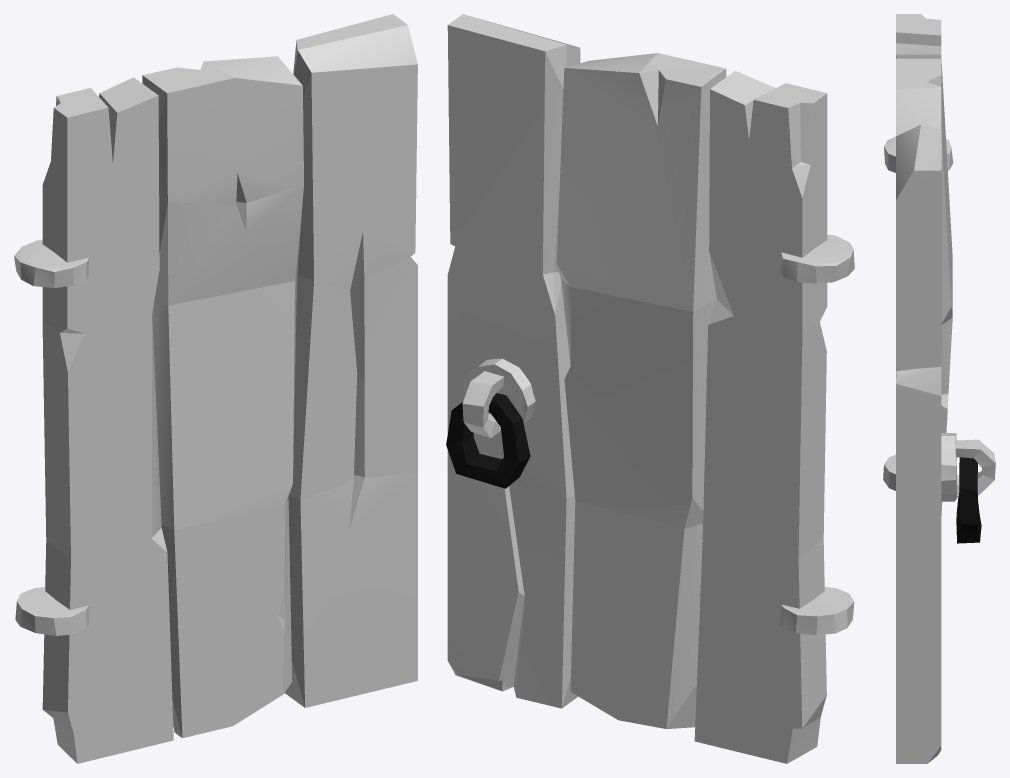
The model's file is NGF_Env_Door_04.fbx.
3 views of the same model, side by side, from view 1: azimuth 30°, elevation 25°; view 2: azimuth 150°, elevation 25°; view 3: azimuth 270°, elevation 25° (orthographic). The views are drawn at different scales.
Visible parts, largest first — view 1: NGF_Env_Door_04, NGF_Env_Hinges_10; view 2: NGF_Env_Door_04, NGF_Env_Hinges_10, NGF_Env_Handle_04, NGF_Env_Handle_attachment_04; view 3: NGF_Env_Door_04, NGF_Env_Handle_attachment_04, NGF_Env_Handle_04, NGF_Env_Hinges_10.
Part boxes in pixels (x1,y1,x2,y2): NGF_Env_Door_04: (42, 14, 417, 763); NGF_Env_Hinges_10: (14, 239, 89, 635); NGF_Env_Door_04: (447, 14, 827, 763); NGF_Env_Hinges_10: (779, 234, 854, 635); NGF_Env_Handle_04: (446, 393, 530, 488); NGF_Env_Handle_attachment_04: (462, 358, 535, 438); NGF_Env_Door_04: (896, 14, 952, 763); NGF_Env_Handle_attachment_04: (941, 433, 995, 501); NGF_Env_Handle_04: (956, 457, 981, 543); NGF_Env_Hinges_10: (883, 136, 953, 490).
Size of the model in its own units: 1.53 by 2.46 by 0.424.
1 material, 1 textured.
